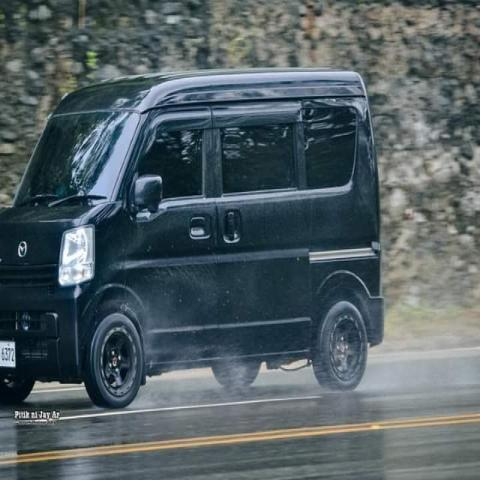van: (0, 63, 388, 416)
